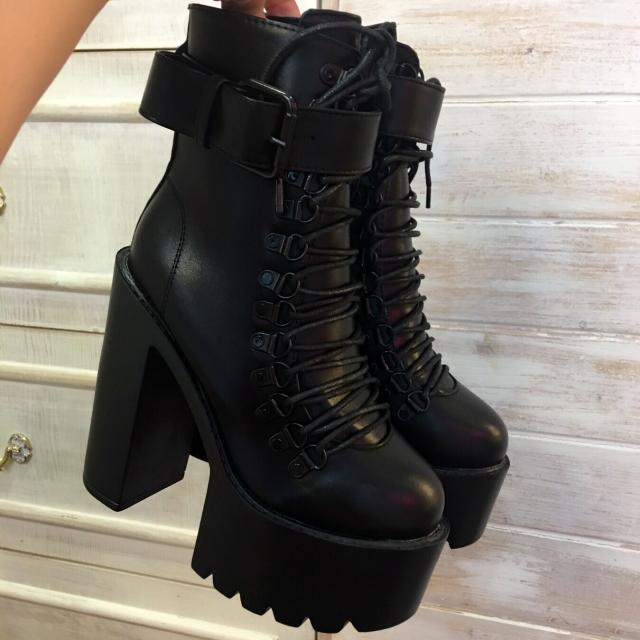boot: (78, 4, 452, 631)
